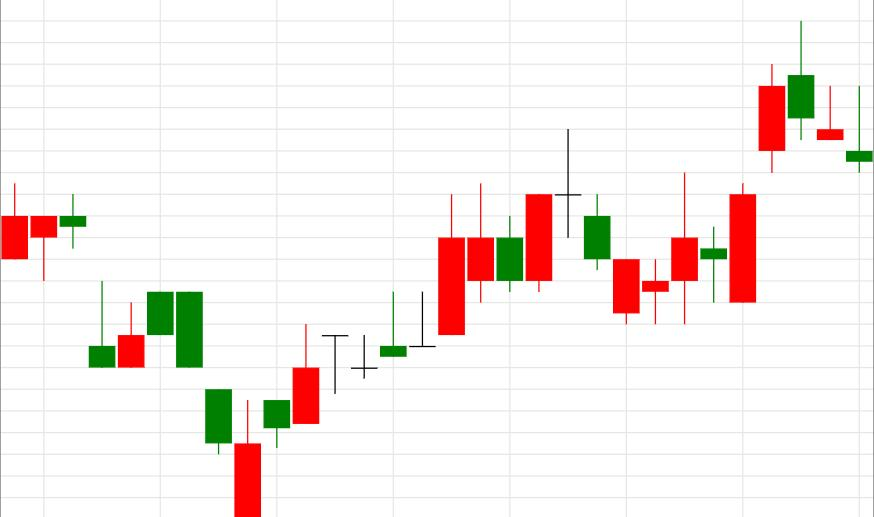evening_star_fall: (235, 128, 612, 516)
